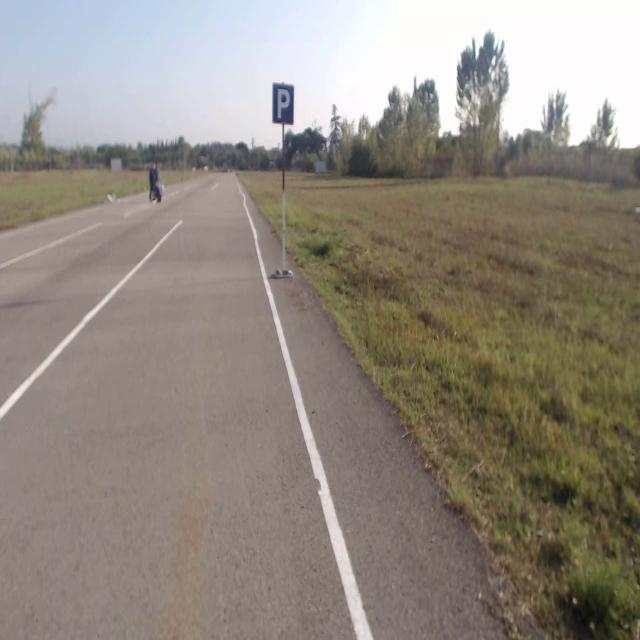park: (272, 81, 294, 123)
